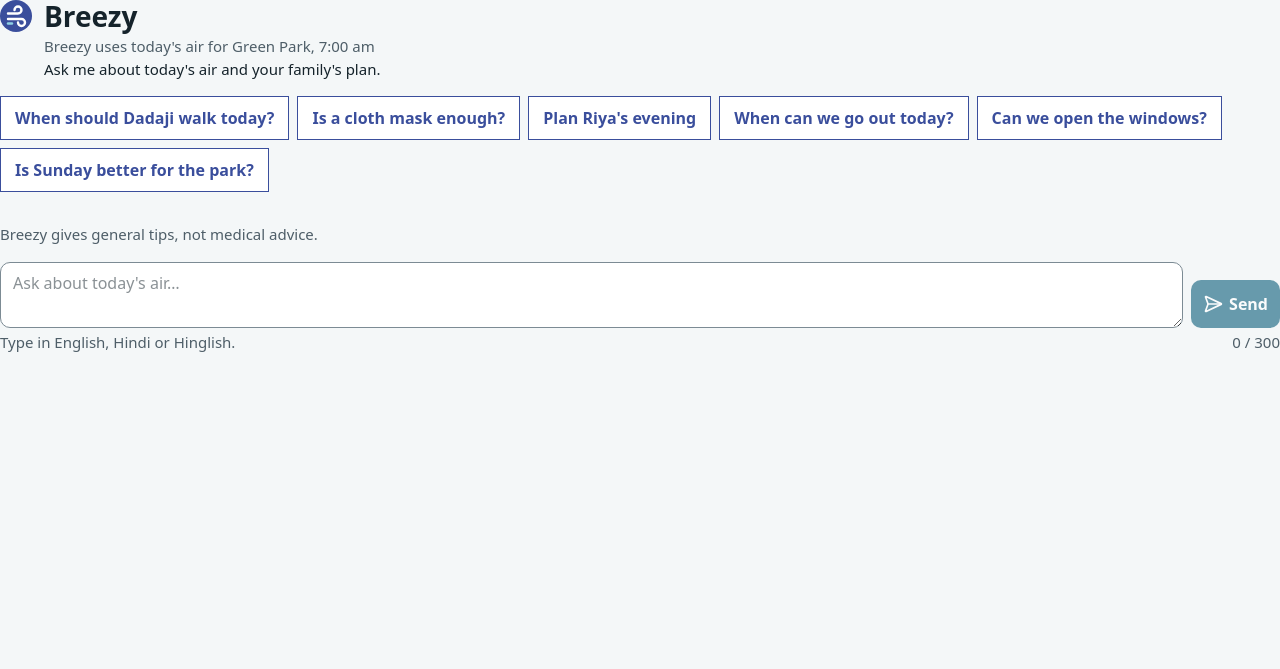
Test: Picture it on a card › says less than 1 for a clean day and hides the percent at the smokiest hour
In the text box named "Your question for Breezy": (592, 295) [0,262,1183,328], type "Temple?"
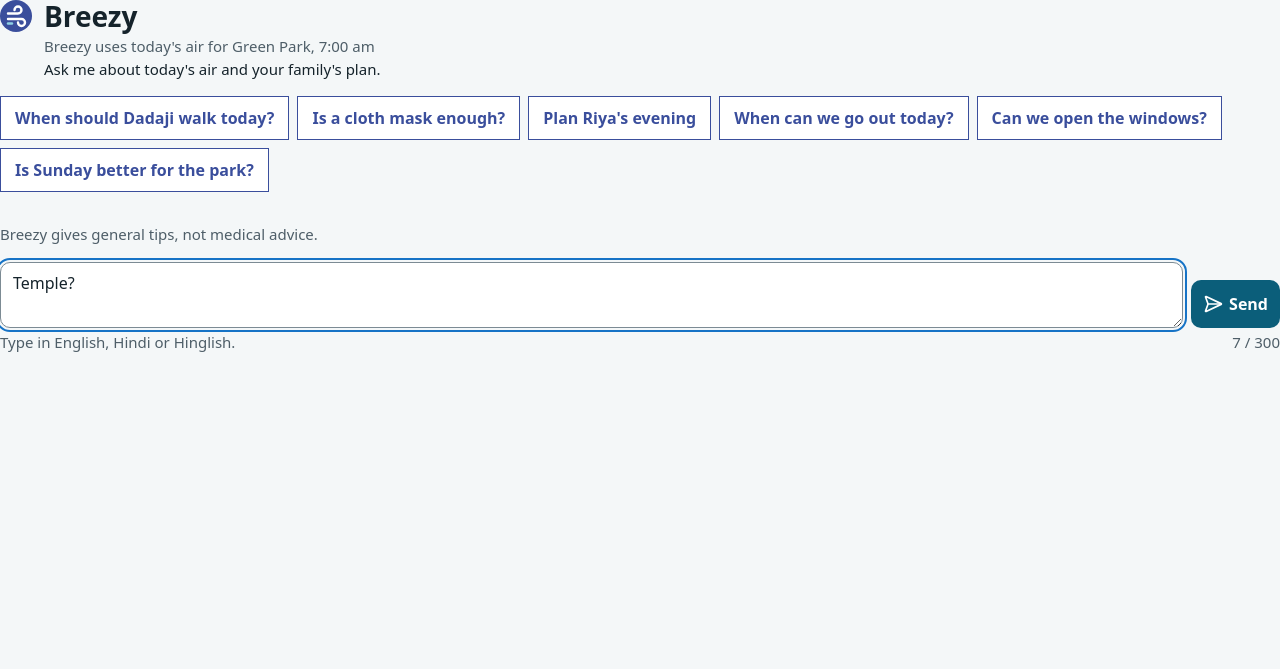
Click the button "Send": (1236, 304) [1191,280,1279,328]
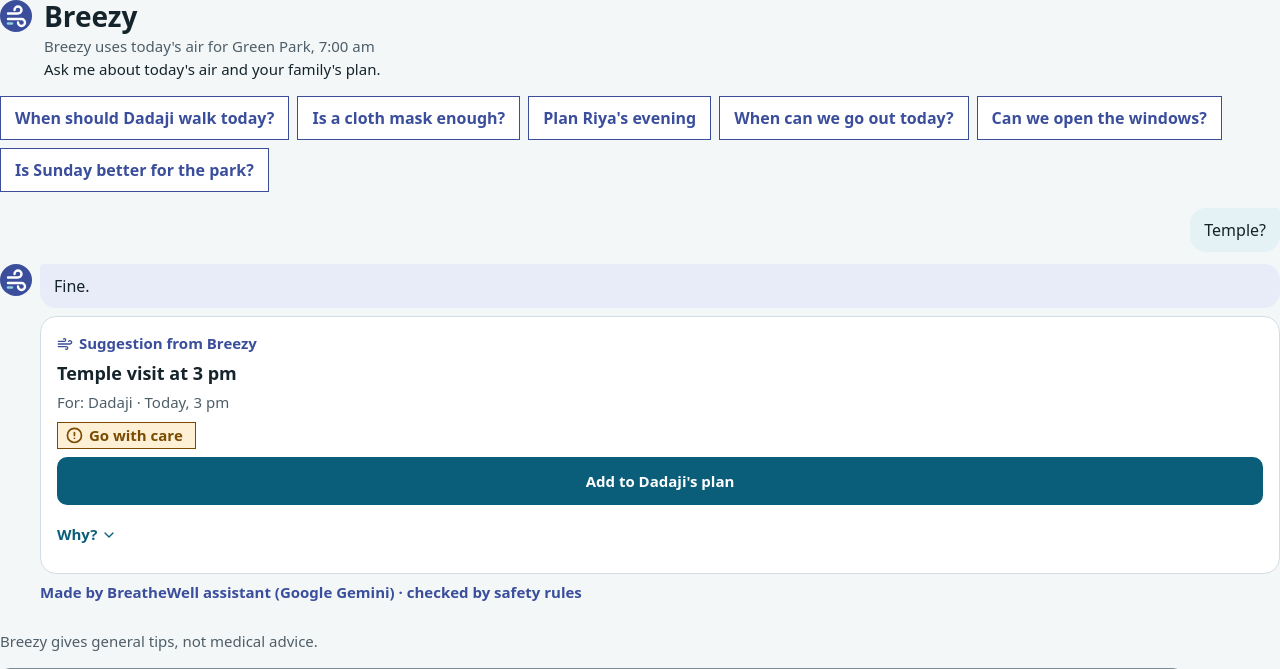
Click the heading "Why?": (87, 534) [57,524,117,544]
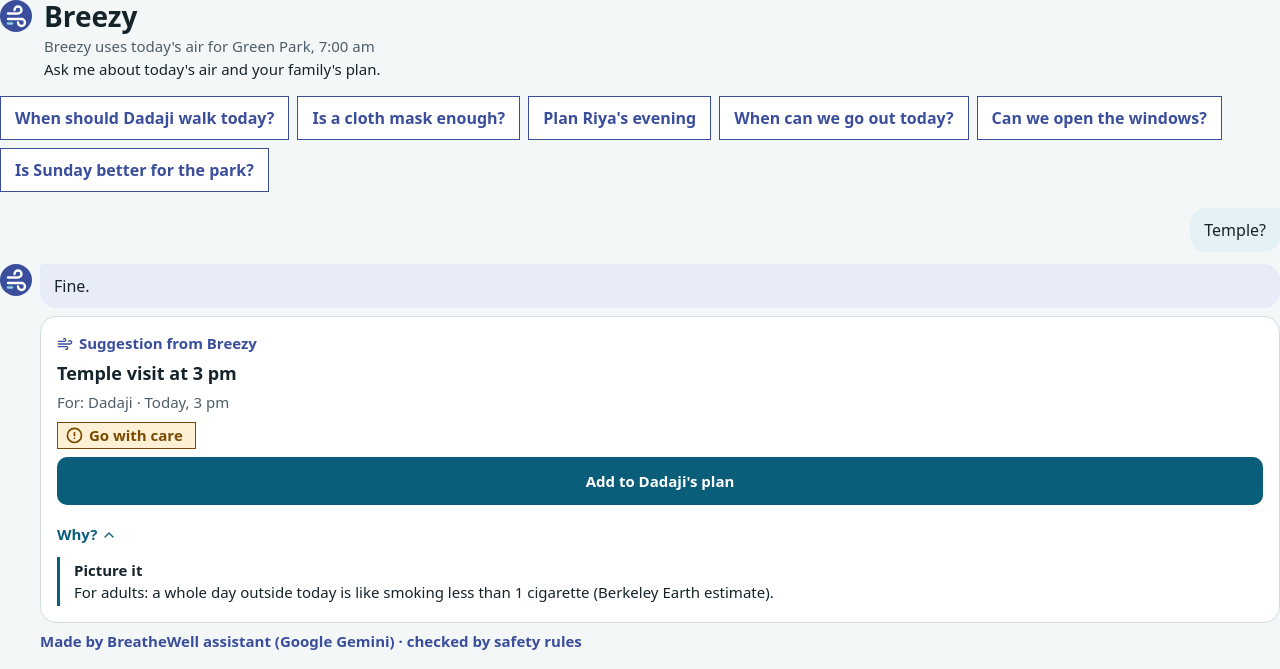
Check: the text "less than 1 cigarette" is shown, box [74,582,774,602]
